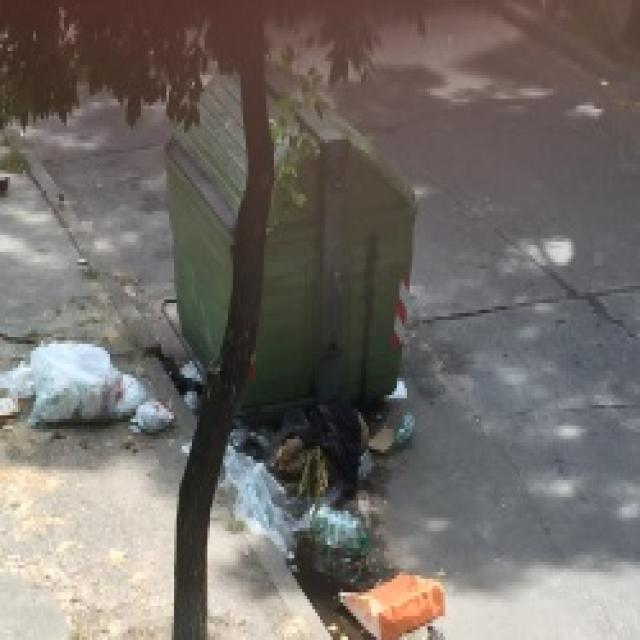garbage: (220, 390, 373, 586), (0, 334, 169, 432), (333, 561, 449, 640)
